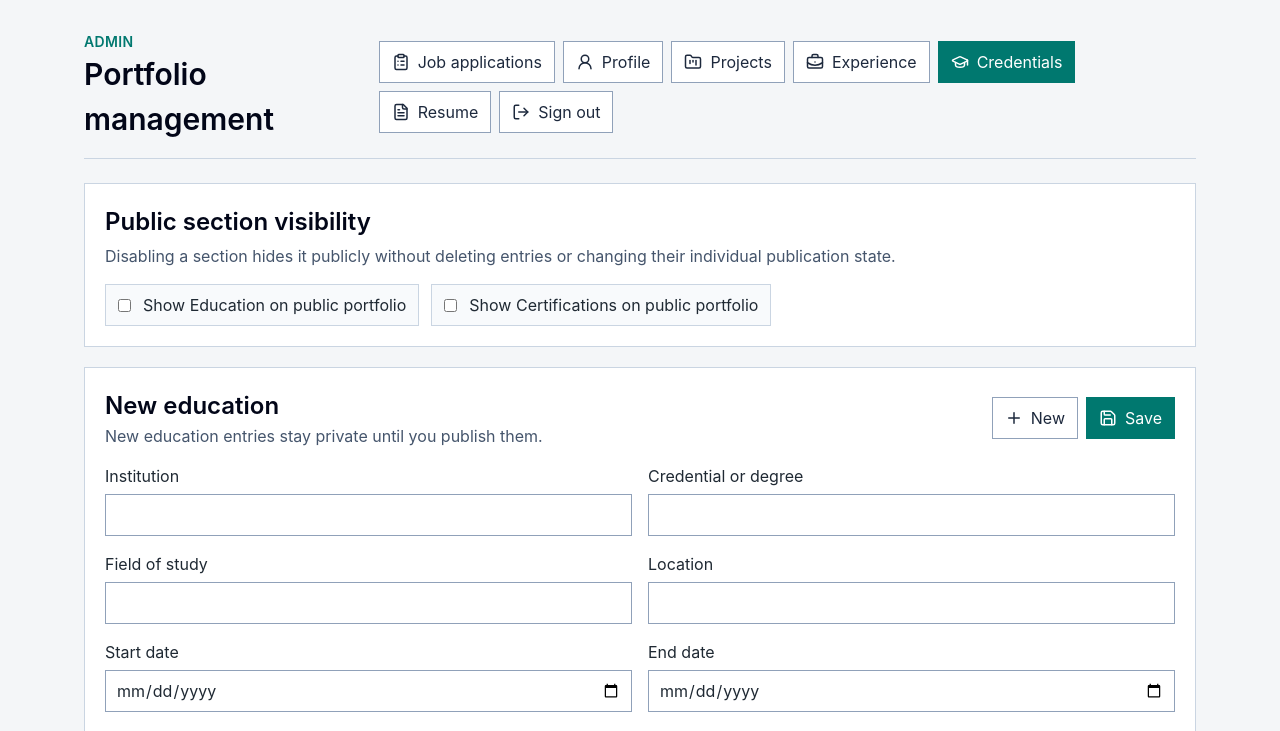
Test: credentials admin › updates public-section toggles with pending, success, and error feedback
Check: the text "hides it publicly without deleting entries" is shown, box [105,246,896,266]
Click the checkbox labelled "Show Education on public portfolio". click: {"x": 124, "y": 305}
box: [118,298,131,312]
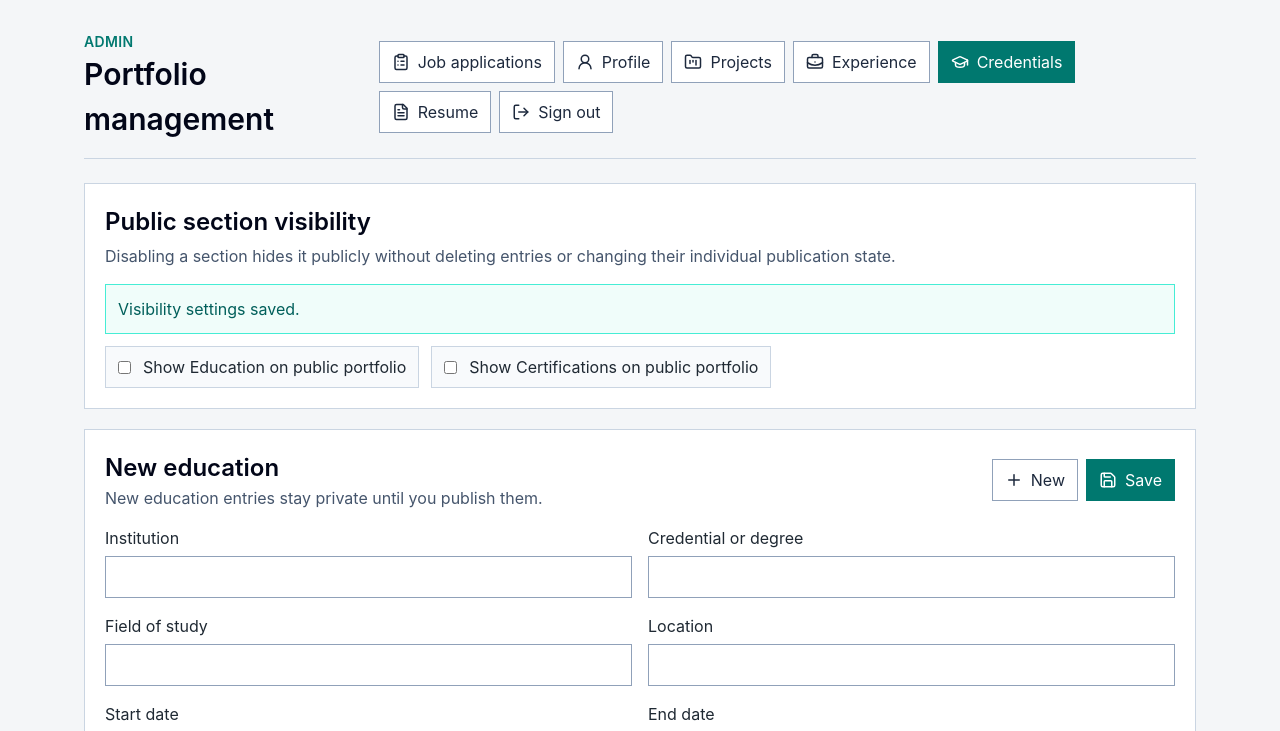
Check: the text "Visibility settings saved." is shown, box [105,284,1175,334]
Click the checkbox labelled "Show Certifications on public portfolio". click: {"x": 451, "y": 367}
box: [444,360,457,374]
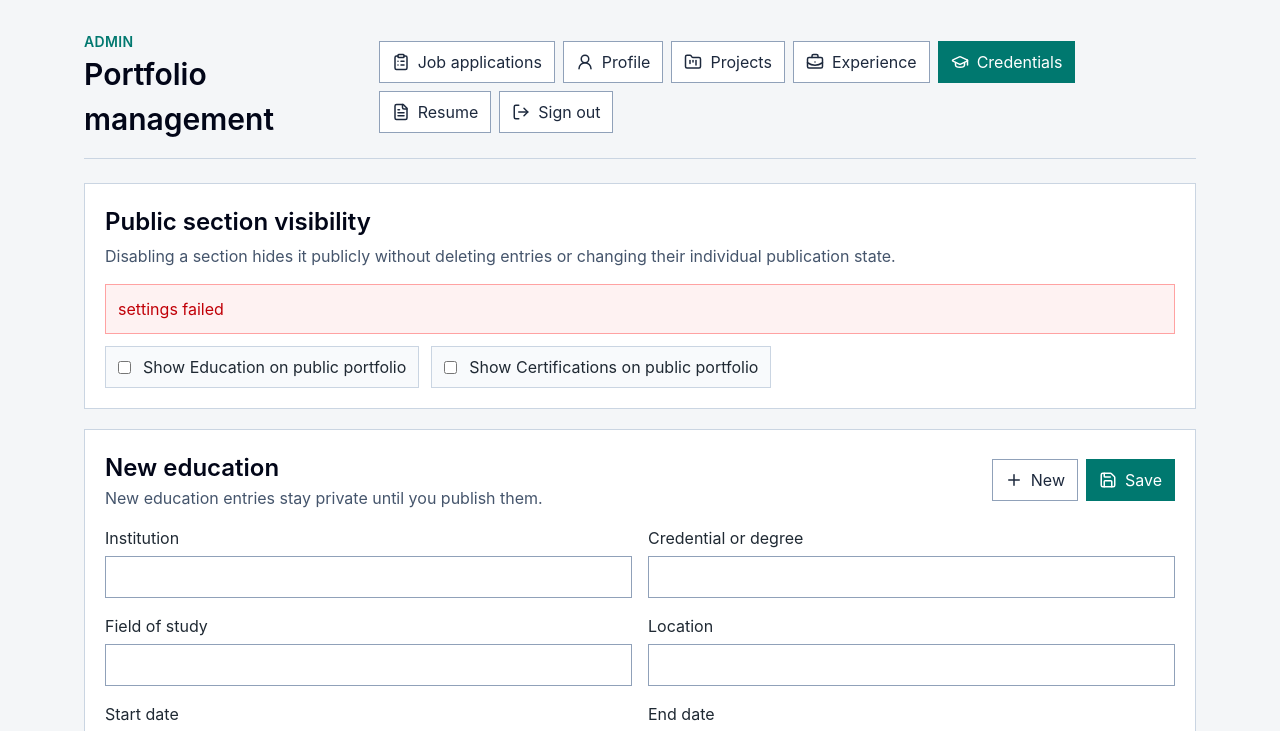
Check: the message reads "settings failed", box [118,299,224,319]
